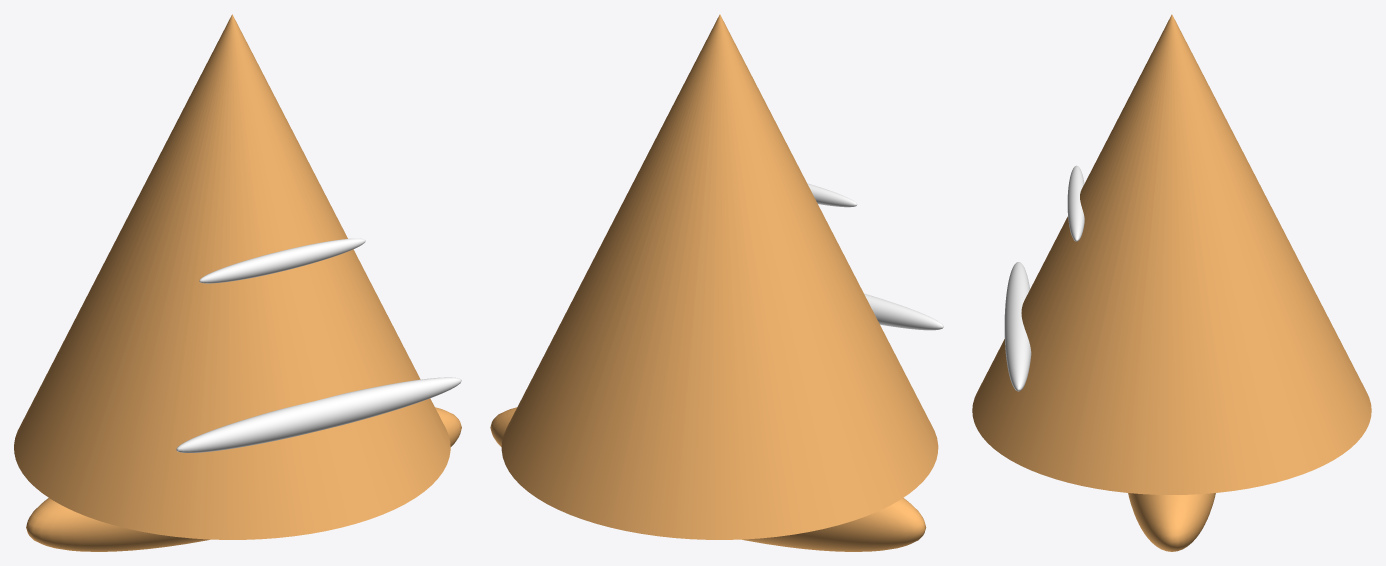
Rendered from traffic cone.glb.
3 renders of one model, left to right at view 1: azimuth 30°, elevation 25°; view 2: azimuth 150°, elevation 25°; view 3: azimuth 270°, elevation 25°, orthographic. The views are drawn at different scales.
Parts seen in each view (by area): view 1: mesh_id27, mesh_id31, mesh_id29, mesh_id33; view 2: mesh_id27, mesh_id29, mesh_id31, mesh_id33; view 3: mesh_id27, mesh_id29, mesh_id31, mesh_id33.
Boxes of the visible parts, x1,y1,x2,y2 form: mesh_id27: [14, 14, 450, 539]; mesh_id31: [176, 377, 461, 452]; mesh_id29: [26, 407, 461, 551]; mesh_id33: [199, 238, 365, 283]; mesh_id27: [501, 14, 938, 539]; mesh_id29: [490, 407, 926, 551]; mesh_id31: [864, 293, 943, 330]; mesh_id33: [807, 183, 857, 207]; mesh_id27: [972, 14, 1371, 494]; mesh_id29: [1128, 493, 1215, 551]; mesh_id31: [1004, 262, 1031, 391]; mesh_id33: [1067, 165, 1084, 241].
Bounding box in the file's own units: 1.03 × 1.17 × 0.8984.
